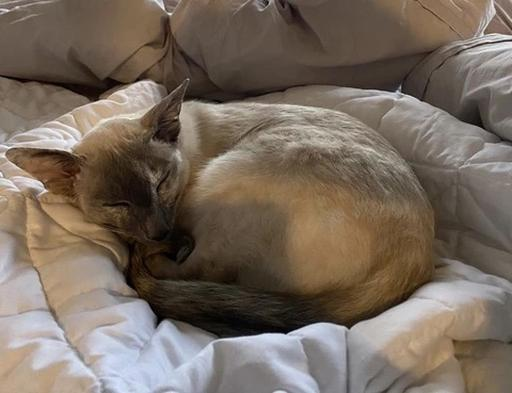cat_sleeping: (6, 79, 433, 336)
